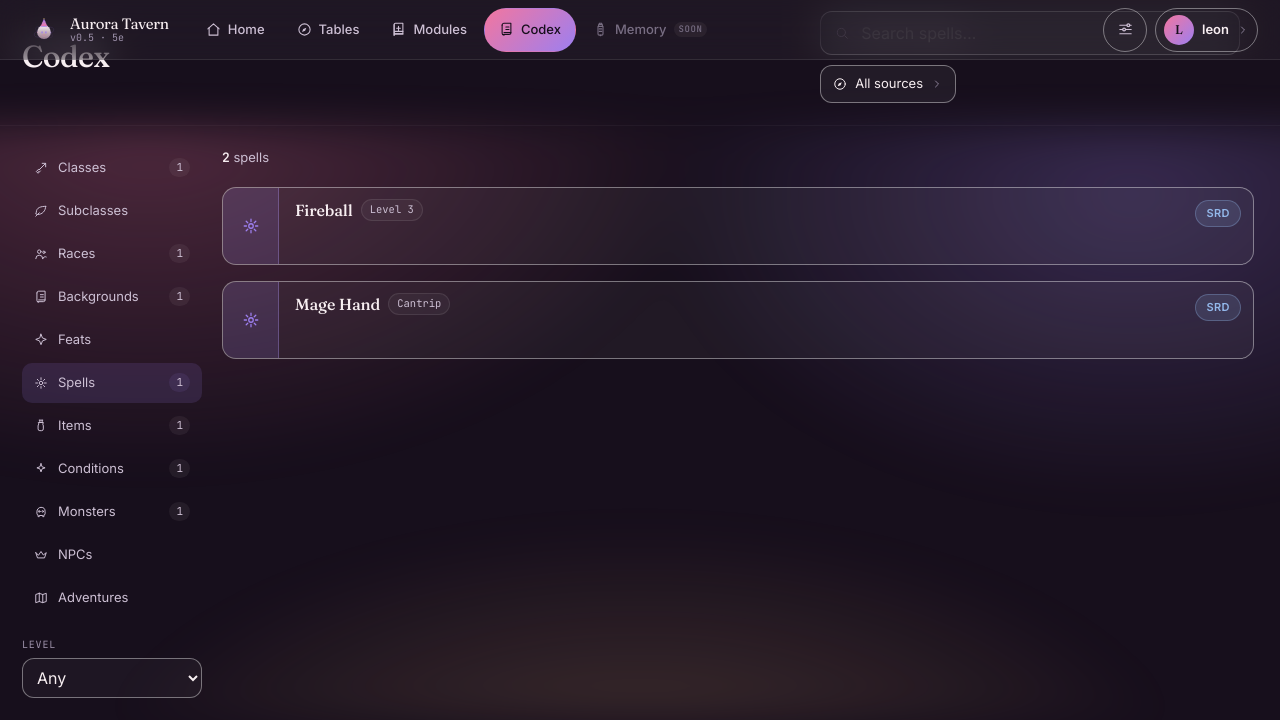
state abuse › switching tabs while a subfilter is set resets the subfilter (no stale filter silently hiding the new tab’s rows)
(page scrolled)
Expected: the option "Fireball Level 3 SRD" is shown, x1=222 y1=187 x2=1254 y2=265
Select "Level 3" in the dropdown labelled "Level" at (112, 678), box x1=22 y1=658 x2=202 y2=698
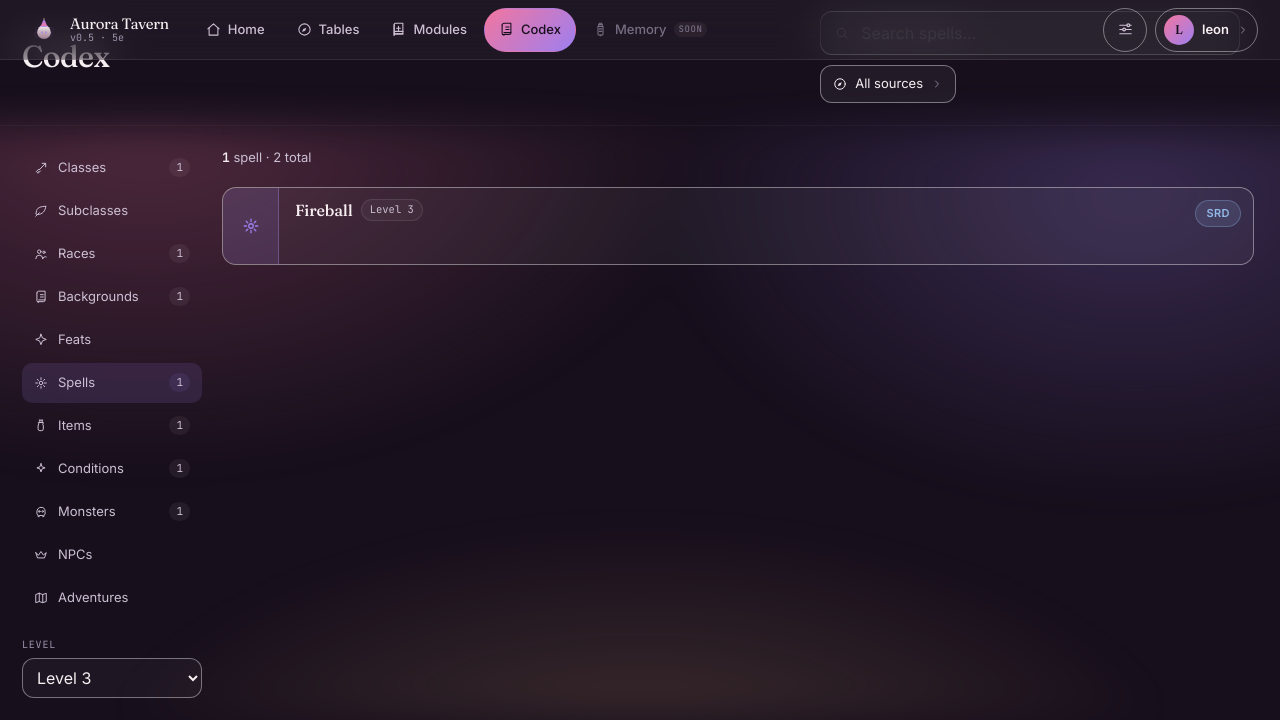
Result: the option "Mage Hand" is gone
Click the tab "Monsters 1".
click(112, 512)  # box x1=22 y1=492 x2=202 y2=532
(page scrolled)
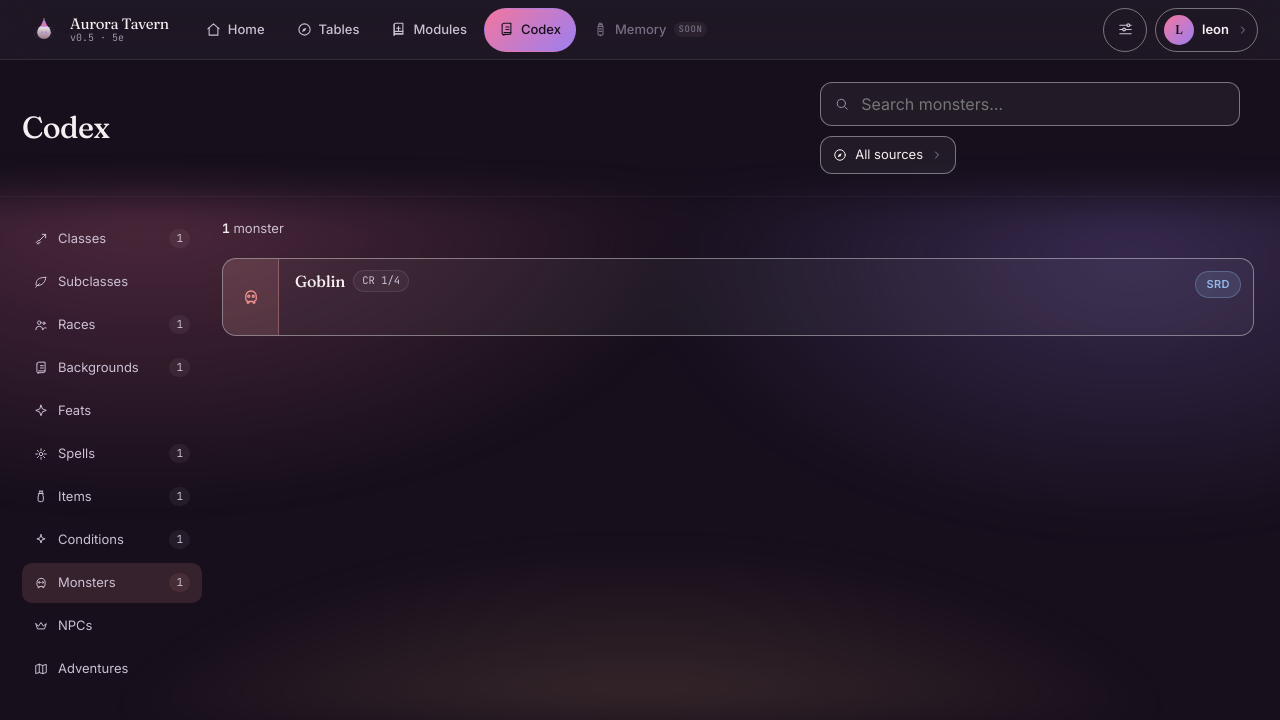
Result: the option "Goblin CR 1/4 SRD" is shown at x1=222 y1=258 x2=1254 y2=336
